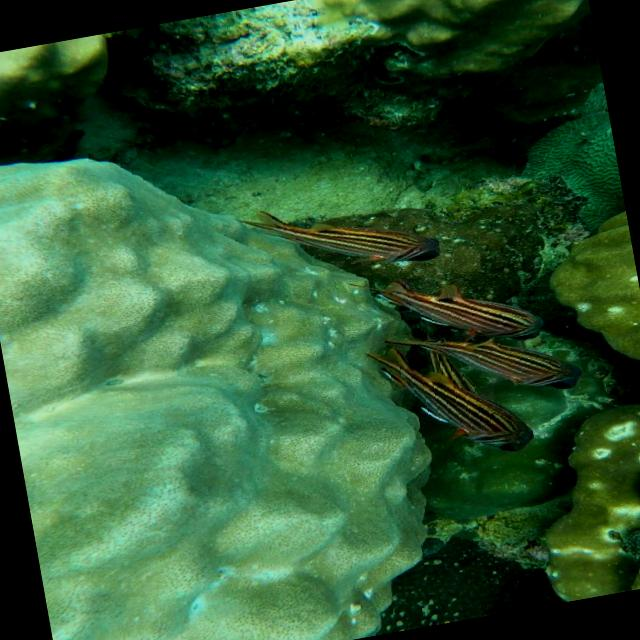Asker Baligi: (344, 323, 553, 493), (228, 171, 462, 300)
